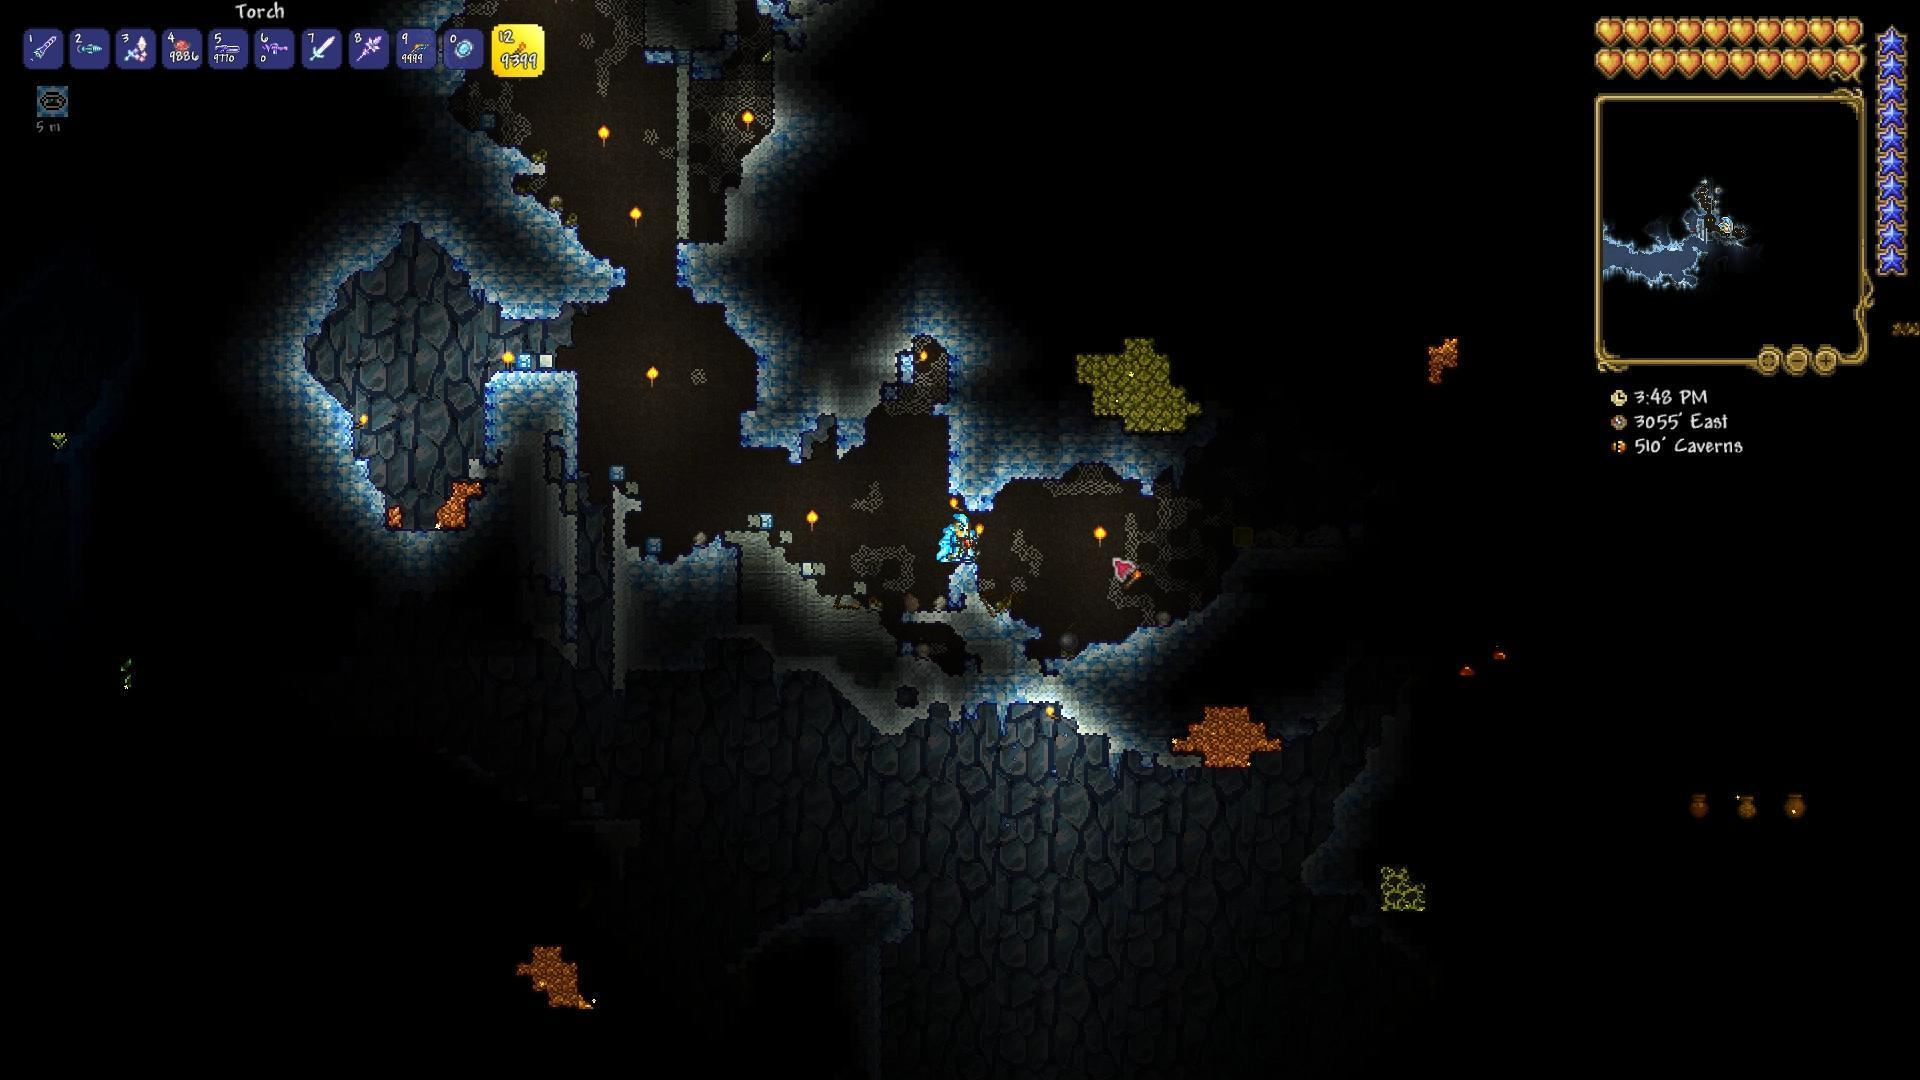cobwebT: (690, 364, 711, 386)
